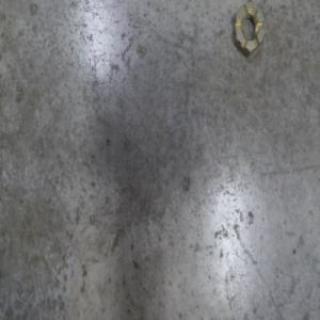Nuttrack_idkeyframe: (230, 1, 264, 60)
